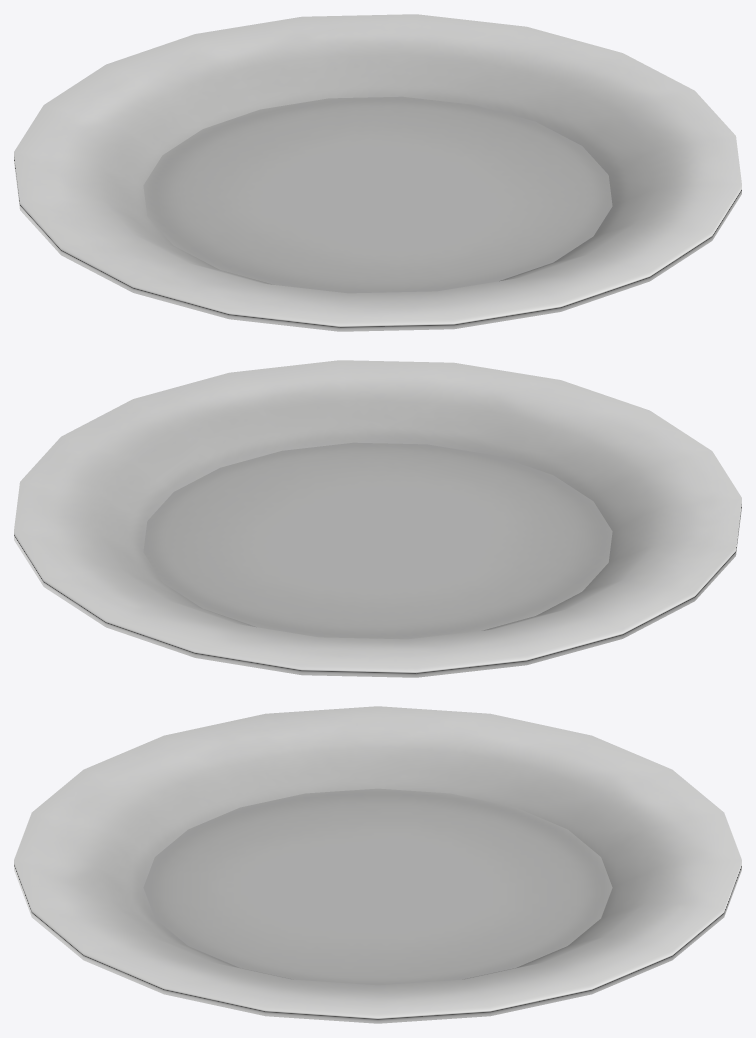
The model's file is assets_plate.fbx.
The picture shows the model from 3 angles, top to bottom: view 1: azimuth 30°, elevation 25°; view 2: azimuth 150°, elevation 25°; view 3: azimuth 270°, elevation 25°; orthographic projection.
Visible parts, largest first — view 1: assets_plate; view 2: assets_plate; view 3: assets_plate.
Boxes of the visible parts, bbox=[...] form: assets_plate: bbox=[14, 14, 741, 331]; assets_plate: bbox=[14, 360, 741, 677]; assets_plate: bbox=[14, 706, 741, 1023].
Bounding box in the file's own units: 4.12 × 0.2395 × 4.12.
